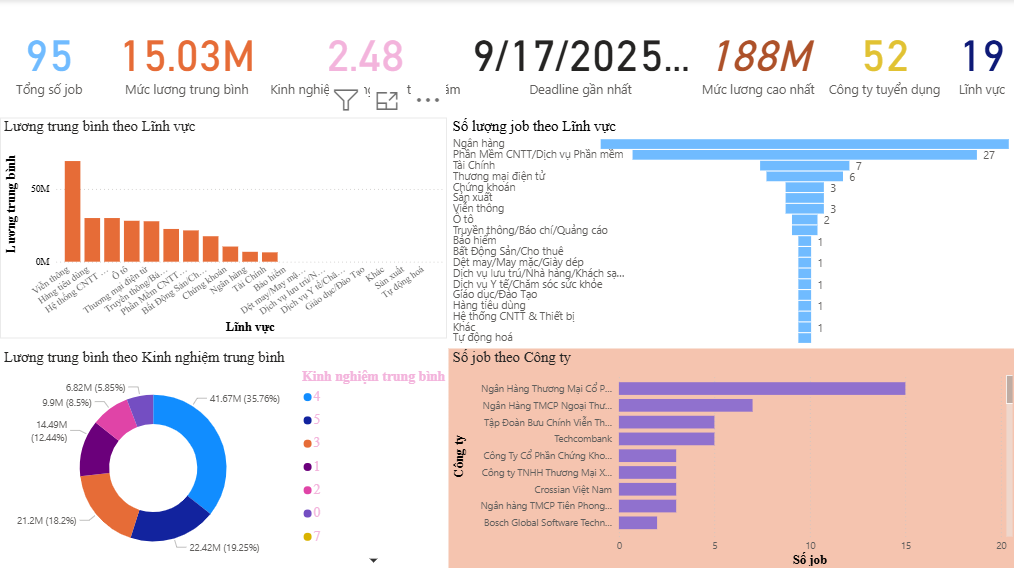

What the dashboard file says about the page in this screenshot:
{"tool":"powerbi","page":{"name":"Page 1","canvas":[1280,720],"ordinal":0},"visuals":[{"type":"card","fields":{"Values":["CountNonNull(Sheet1.title)"]},"box":[0,0,123.3,150],"z":0},{"type":"card","fields":{"Values":["Avg(Sheet1.avg_salary)"]},"box":[140,0,190,150],"z":1000},{"type":"card","fields":{"Values":["Avg(Sheet1.experience_clean)"]},"box":[330,0,258.3,150],"z":2000},{"type":"card","fields":{"Values":["Min(Sheet1.deadline_clean)"]},"box":[588.3,0,286.7,150],"z":3000},{"type":"columnChart","title":"Lương trung bình theo Lĩnh vực","fields":{"Category":["Sheet1.field"],"Y":["Avg(Sheet1.avg_salary)"]},"box":[0,150,563.3,276.7],"z":4000},{"type":"card","fields":{"Values":["Max(Sheet1.max_salary)"]},"box":[875,0,160,150],"z":5000},{"type":"donutChart","title":"Lương trung bình theo Kinh nghiệm trung bình","fields":{"Category":["Sheet1.experience_clean"],"Y":["Avg(Sheet1.avg_salary)"]},"box":[0,440,563.3,280],"z":6000},{"type":"card","fields":{"Values":["Count(Sheet1.company)"]},"box":[1035,0,156.7,150],"z":7000},{"type":"funnel","title":"Số lượng job theo Lĩnh vực","fields":{"Category":["Sheet1.field"],"Y":["CountNonNull(Sheet1.title)"]},"box":[564.4,150,715.6,290],"z":8000},{"type":"clusteredBarChart","title":"Số job theo Công ty","fields":{"Category":["Sheet1.company"],"Y":["CountNonNull(Sheet1.title)"]},"box":[564.4,440,715.6,280],"z":9000},{"type":"card","fields":{"Values":["Count(Sheet1.field)"]},"box":[1191.7,0,88.3,150],"z":10000}]}

Visuals, with their boxes on the page's 1280x720 design canvas (x1, y1, x2, y2). These are canvas units, not pixel positions in the 1014x568 screenshot, which may show the page scaled, cropped or inside an application window:
card - CountNonNull(Sheet1.title): 0:0:123:150
card - Avg(Sheet1.avg_salary): 140:0:330:150
card - Avg(Sheet1.experience_clean): 330:0:588:150
card - Min(Sheet1.deadline_clean): 588:0:875:150
"Lương trung bình theo Lĩnh vực" columnChart: 0:150:563:427
card - Max(Sheet1.max_salary): 875:0:1035:150
"Lương trung bình theo Kinh nghiệm trung bình" donutChart: 0:440:563:720
card - Count(Sheet1.company): 1035:0:1192:150
"Số lượng job theo Lĩnh vực" funnel: 564:150:1280:440
"Số job theo Công ty" clusteredBarChart: 564:440:1280:720
card - Count(Sheet1.field): 1192:0:1280:150
